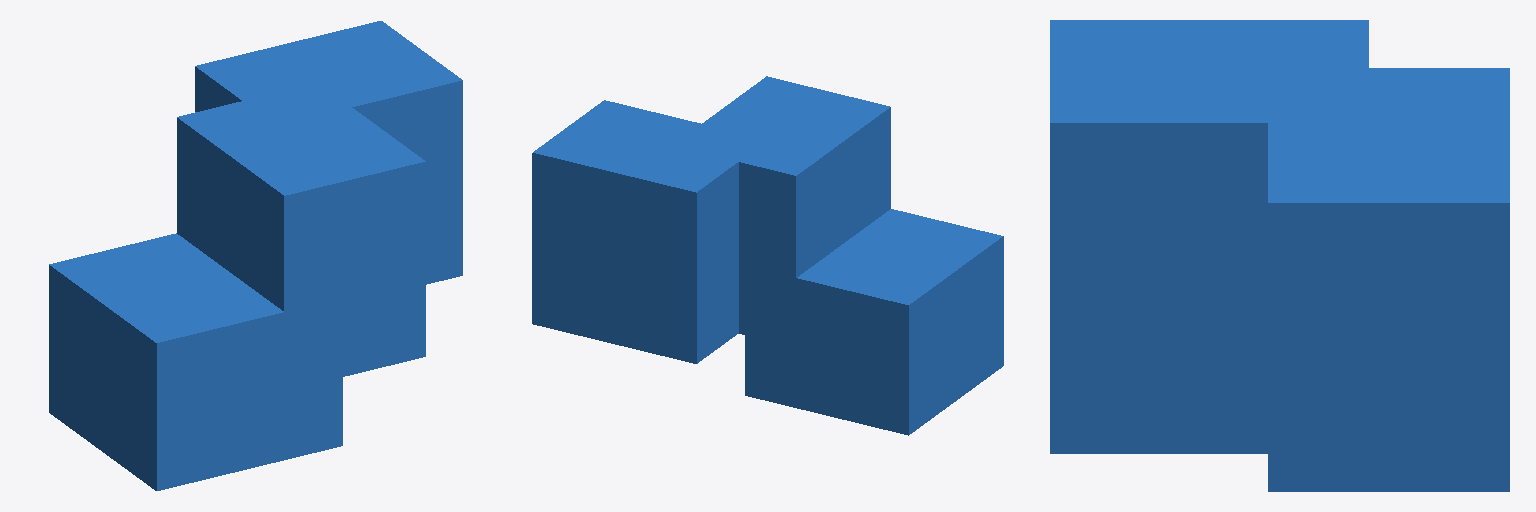
URDF robot description (hip_forward_lateral_envelope_proxy):
<?xml version='1.0' encoding='utf-8'?>
<robot name="hip_forward_lateral_envelope_proxy">
  <link name="world" />
  <link name="hip_0">
    <visual>
      <geometry>
        <box size="0.053 0.053 0.0402" />
      </geometry>
      <material name="m0">
        <color rgba="0.25 0.55 0.85 0.7" />
      </material>
    </visual>
  </link>
  <joint name="fixed_0" type="fixed">
    <parent link="world" />
    <child link="hip_0" />
    <origin xyz="0.0 0.055 0.17989999999999998" rpy="0 0 0" />
  </joint>
  <link name="hip_1">
    <visual>
      <geometry>
        <box size="0.0402 0.053 0.053" />
      </geometry>
      <material name="m1">
        <color rgba="0.25 0.55 0.85 0.7" />
      </material>
    </visual>
  </link>
  <joint name="fixed_1" type="fixed">
    <parent link="world" />
    <child link="hip_1" />
    <origin xyz="0.0299 0.055 0.205" rpy="0 0 0" />
  </joint>
  <link name="hip_2">
    <visual>
      <geometry>
        <box size="0.053 0.0402 0.053" />
      </geometry>
      <material name="m2">
        <color rgba="0.25 0.55 0.85 0.7" />
      </material>
    </visual>
  </link>
  <joint name="fixed_2" type="fixed">
    <parent link="world" />
    <child link="hip_2" />
    <origin xyz="0.055 0.0849 0.205" rpy="0 0 0" />
  </joint>
</robot>

--- What the picture shows (computed from the rendered views, not written in the file) ---
3 views of the same robot in one strip: view 1: azimuth 30°, elevation 25°; view 2: azimuth 150°, elevation 25°; view 3: azimuth 270°, elevation 25° (orthographic).
Model hip_forward_lateral_envelope_proxy with 4 links and 3 joints (3 fixed), rooted at world, posed all joints at 0.
Links seen in each view (by area): view 1: hip_0, hip_1, hip_2; view 2: hip_2, hip_0, hip_1; view 3: hip_2, hip_1, hip_0.
Boxes of the visible links, box(x1,y1,x2,y2) form: hip_0: box(49, 233, 342, 490); hip_1: box(177, 87, 425, 388); hip_2: box(195, 21, 462, 284); hip_2: box(532, 100, 738, 363); hip_0: box(745, 209, 1003, 435); hip_1: box(672, 76, 890, 346); hip_2: box(1268, 68, 1509, 491); hip_1: box(1050, 20, 1368, 410); hip_0: box(1050, 411, 1267, 453).
Size in the robot's own frame: 0.108 by 0.0765 by 0.0717 metres.
Geometry: primitives only (box / cylinder / sphere), no mesh files.
